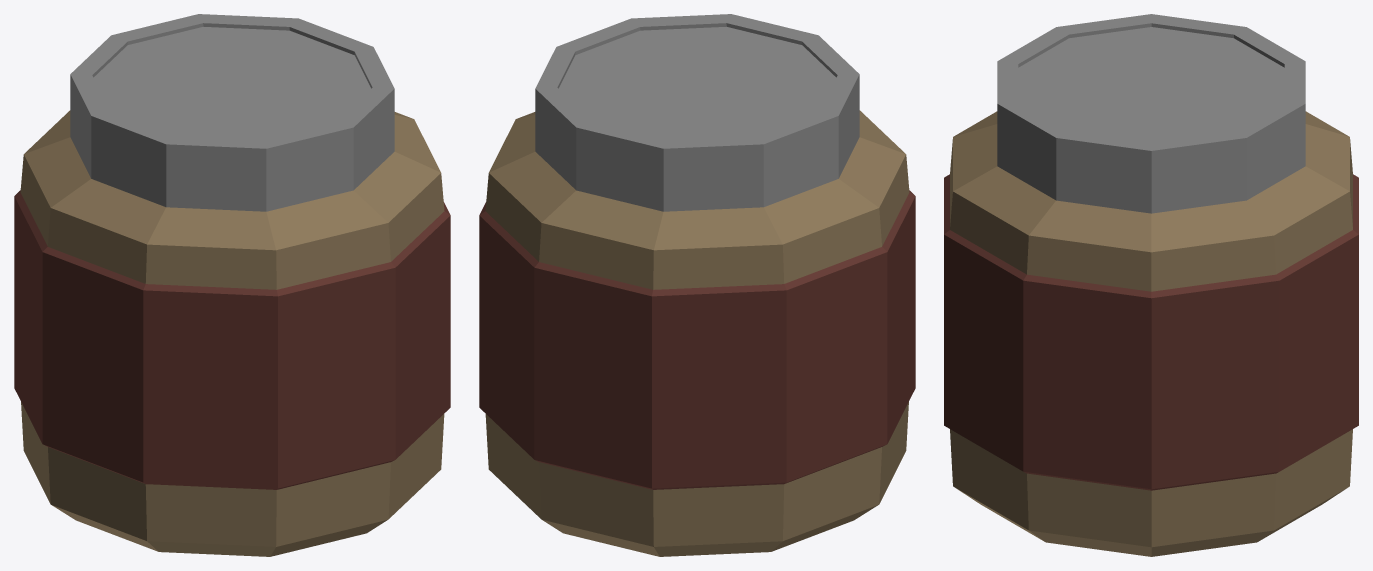
File: jar.glb
3 renders of one model, left to right at view 1: azimuth 30°, elevation 25°; view 2: azimuth 150°, elevation 25°; view 3: azimuth 270°, elevation 25°, orthographic.
Visible parts, largest first — view 1: jar; view 2: jar; view 3: jar.
Part boxes in pixels (<box>): jar: <box>14,14,450,556</box>; jar: <box>479,14,915,556</box>; jar: <box>944,14,1358,556</box>.
Size of the model in its own units: 0.2182 by 0.22 by 0.2075.
